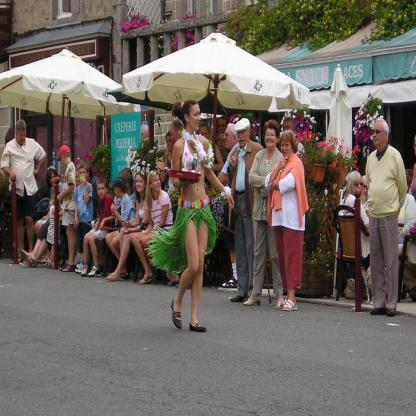face: (190, 107, 202, 132), (373, 126, 385, 148), (224, 129, 234, 151), (266, 131, 278, 149), (282, 142, 293, 161), (238, 132, 249, 148), (284, 123, 294, 140), (137, 176, 145, 193), (363, 183, 371, 200), (218, 136, 227, 151), (354, 183, 363, 198), (18, 129, 26, 145), (219, 121, 227, 137), (98, 185, 106, 200), (153, 177, 161, 192), (167, 138, 175, 153), (80, 169, 88, 183), (201, 130, 209, 144), (171, 129, 178, 144), (51, 174, 57, 188), (77, 171, 82, 186), (61, 156, 66, 167), (115, 187, 118, 199)
